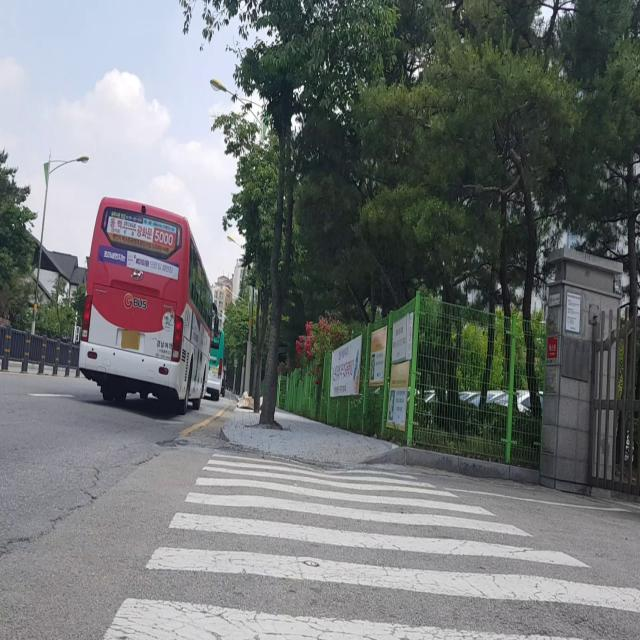횡단보도: (99, 444, 640, 640)
